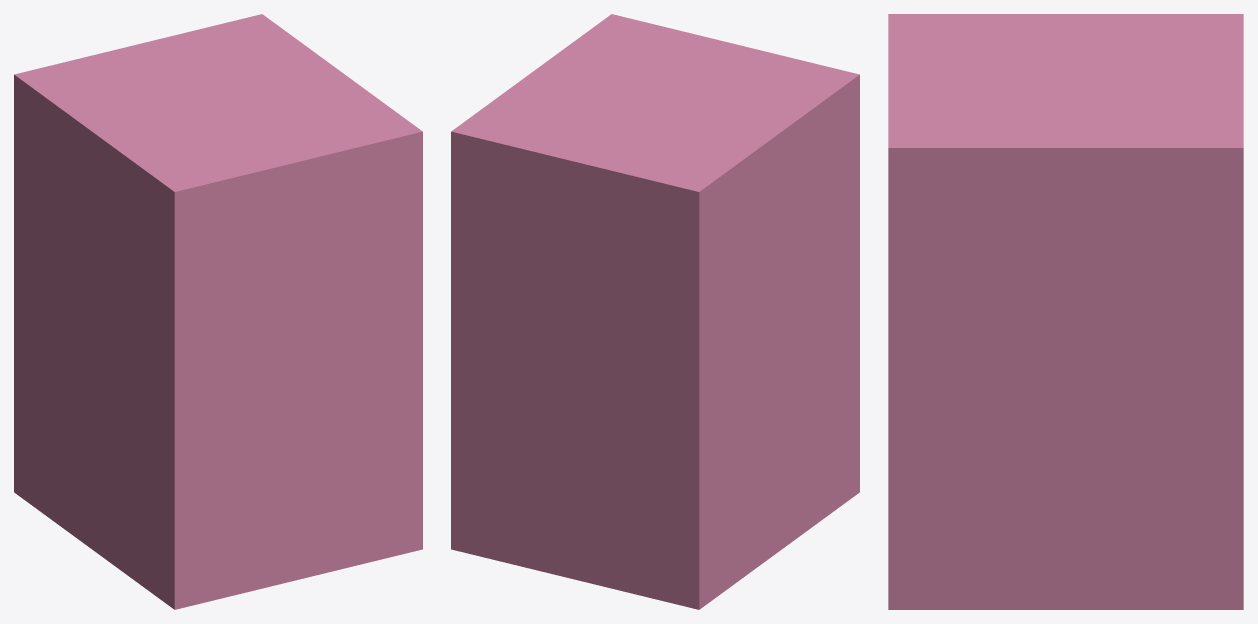
Rendered from tree_beech_bush_c.dae.
The picture shows the model from 3 angles, left to right: view 1: azimuth 30°, elevation 25°; view 2: azimuth 150°, elevation 25°; view 3: azimuth 270°, elevation 25°; orthographic projection. The views are drawn at different scales.
Visible parts, largest first — view 1: Untitled; view 2: Untitled; view 3: Untitled.
Boxes of the visible parts, x1,y1,x2,y2 form: Untitled: (14,14,422,609); Untitled: (451,14,859,609); Untitled: (888,14,1243,609).
Size of the model in its own units: 2.27 by 2.54 by 3.84.
